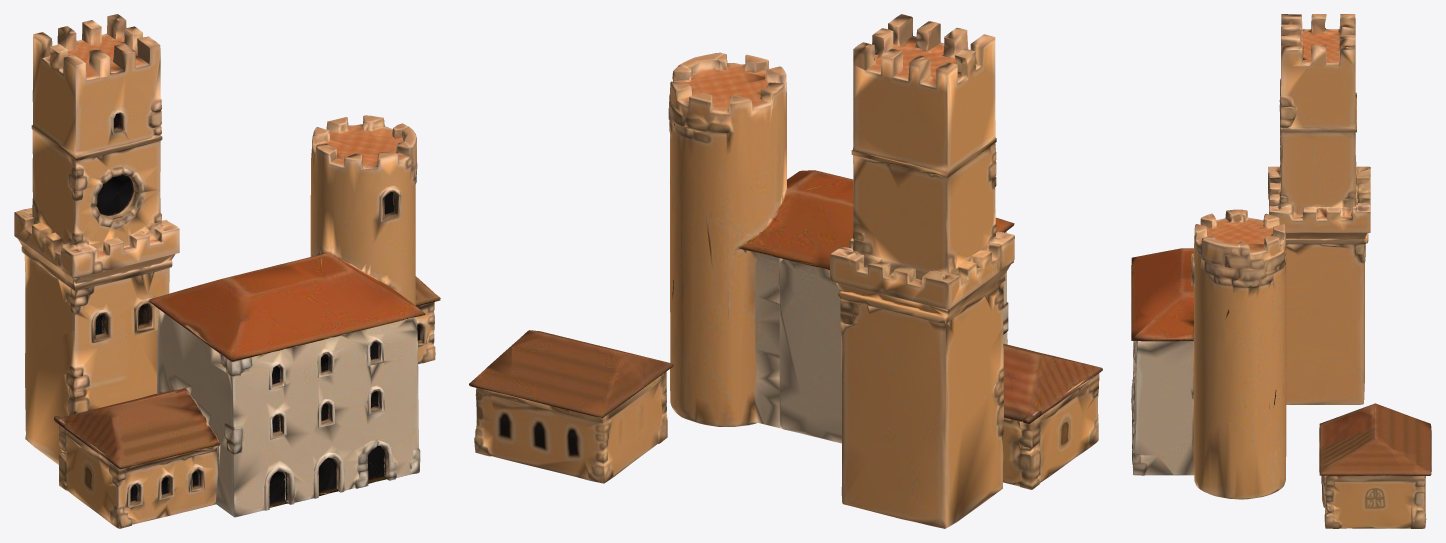
The model's file is cittadina.glb.
The picture shows the model from 3 angles, left to right: view 1: azimuth 30°, elevation 25°; view 2: azimuth 150°, elevation 25°; view 3: azimuth 270°, elevation 25°; orthographic projection. The views are drawn at different scales.
Bounding box in the file's own units: 1.9 × 1.8 × 1.38.
Materials: 1 (1 with a texture image).
